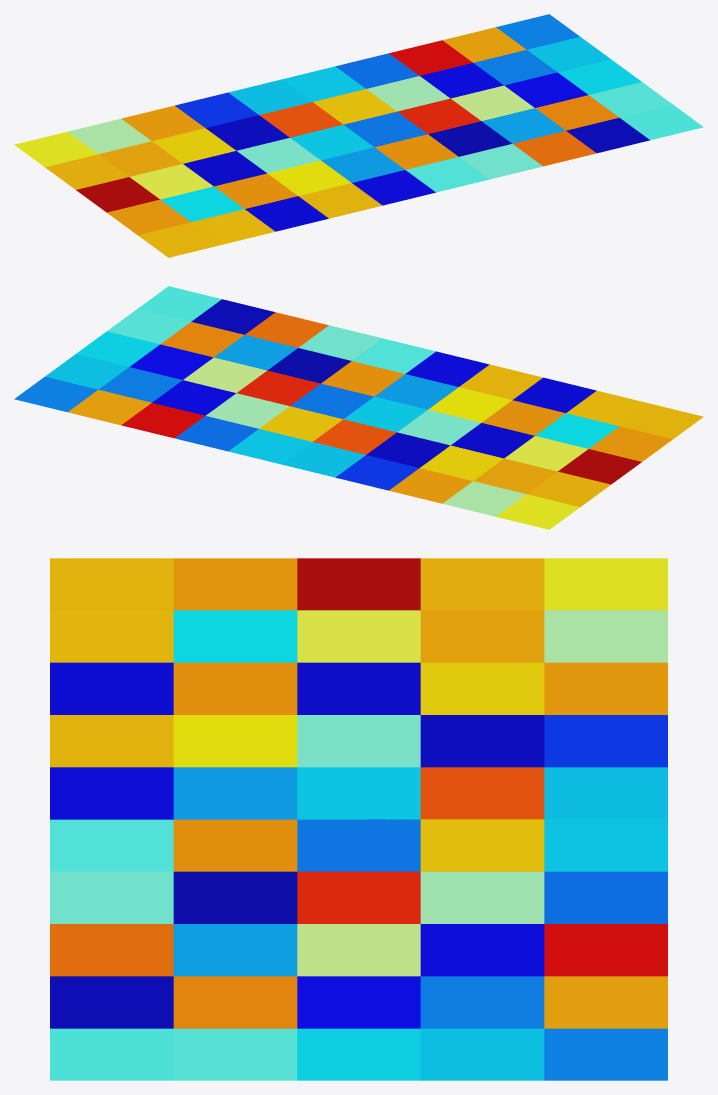
Rendered from result.gltf.
The picture shows the model from 3 angles, top to bottom: view 1: azimuth 30°, elevation 25°; view 2: azimuth 150°, elevation 25°; view 3: azimuth 270°, elevation 25°; orthographic projection. The views are drawn at different scales.
Visible parts, largest first — view 1: output1.001; view 2: output1.001; view 3: output1.001.
Boxes of the visible parts, x1,y1,x2,y2 form: output1.001: (14,14,703,257); output1.001: (14,286,703,529); output1.001: (50,558,667,1080).
Size of the model in its own units: 10 by 8.43e-07 by 5.
